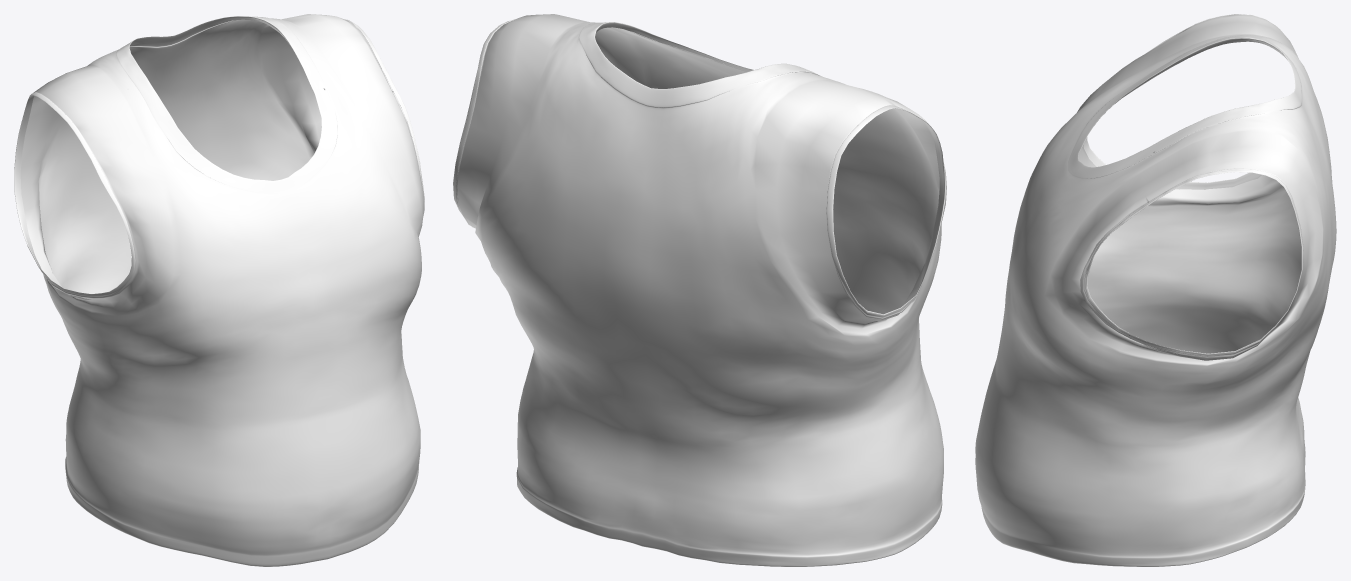
File: Jersey.glb
3 renders of one model, left to right at view 1: azimuth 30°, elevation 25°; view 2: azimuth 150°, elevation 25°; view 3: azimuth 270°, elevation 25°, orthographic. The views are drawn at different scales.
Parts seen in each view (by area): view 1: Tankini_for_Genesis.001; view 2: Tankini_for_Genesis.001; view 3: Tankini_for_Genesis.001.
Boxes of the visible parts, x1=… form: Tankini_for_Genesis.001: x1=14, y1=14, x2=424, y2=566; Tankini_for_Genesis.001: x1=453, y1=14, x2=946, y2=566; Tankini_for_Genesis.001: x1=975, y1=14, x2=1336, y2=566.
Bounding box in the file's own units: 8.63 × 10.45 × 7.74.
Materials: 1 (1 with a texture image).
